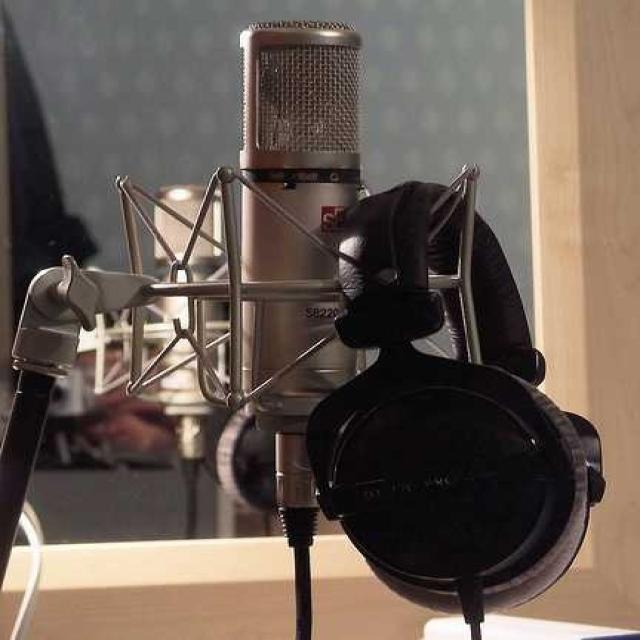microphone: (238, 25, 363, 445)
